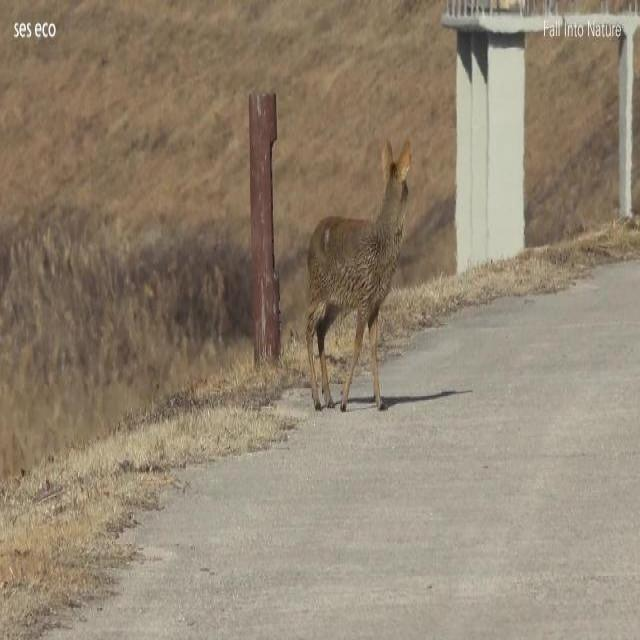deer: (304, 139, 412, 414)
